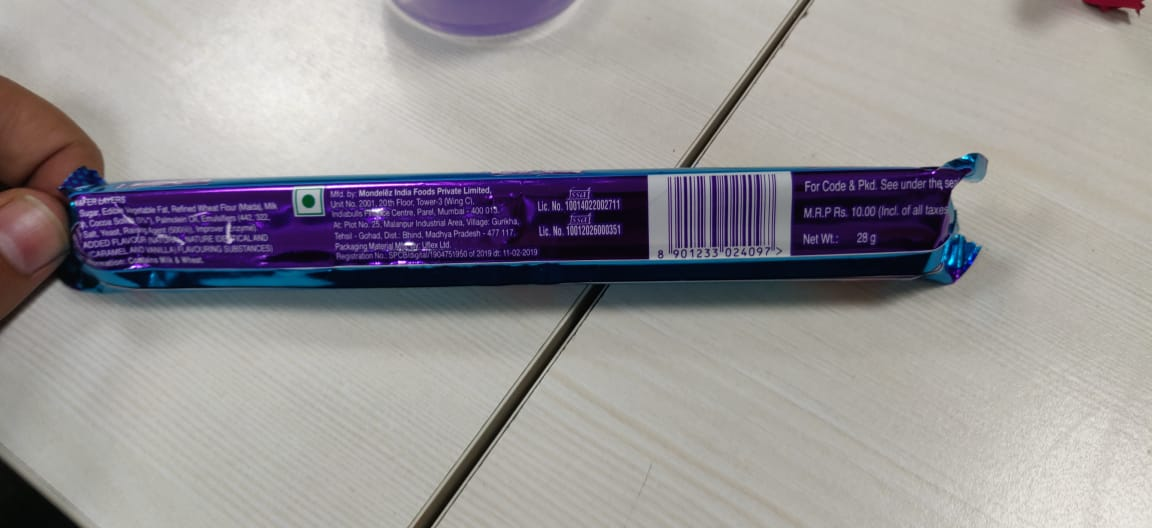perk: (41, 149, 1003, 314)
